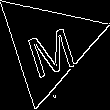M_N: (19, 14, 77, 76)
